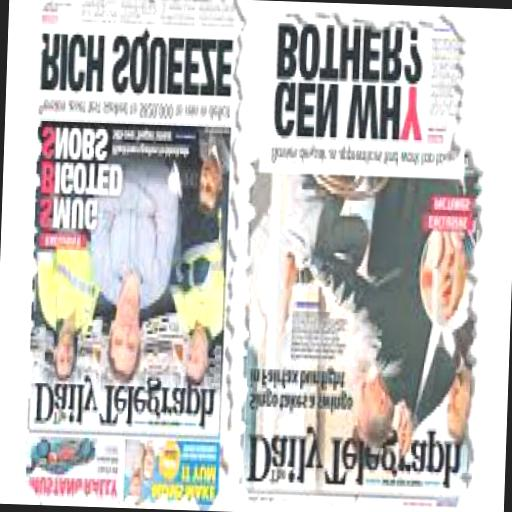paper: (236, 15, 480, 510), (23, 0, 233, 507)
